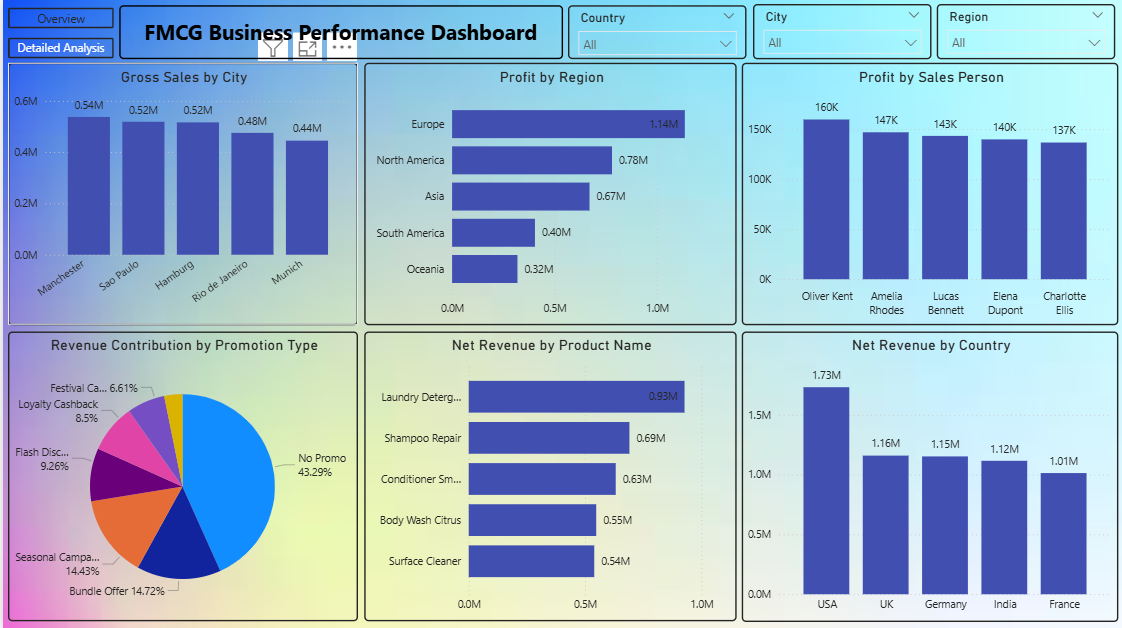

Layout of this report page (visuals, bound fields, positions):
{"tool":"powerbi","page":{"name":"Detailed Analysis","canvas":[1280,720],"ordinal":1},"visuals":[{"type":"pieChart","title":"Revenue Contribution by Promotion Type","fields":{"Category":["fmcg_sales_marketing_profitability_2023_2025.Promotion_Type"],"Y":["Sum(fmcg_sales_marketing_profitability_2023_2025.Profit_USD)"]},"box":[5.7,380,400,331.4],"z":0},{"type":"clusteredBarChart","title":"Profit by Region","fields":{"Category":["fmcg_sales_marketing_profitability_2023_2025.Region"],"Y":["Sum(fmcg_sales_marketing_profitability_2023_2025.Profit_USD)"]},"box":[412.9,72.9,425.7,300],"z":1000},{"type":"columnChart","title":" Profit by Sales Person","fields":{"Category":["fmcg_sales_marketing_profitability_2023_2025.Sales_Person"],"Y":["Sum(fmcg_sales_marketing_profitability_2023_2025.Profit_USD)"]},"box":[843.8,73.1,430.8,300],"z":2000},{"type":"columnChart","title":" Net Revenue by Country","fields":{"Category":["fmcg_sales_marketing_profitability_2023_2025.Country"],"Y":["Sum(fmcg_sales_marketing_profitability_2023_2025.Net_Revenue_USD)"]},"box":[843.8,380,430.6,331.9],"z":3000},{"type":"columnChart","title":"Gross Sales by City","fields":{"Category":["fmcg_sales_marketing_profitability_2023_2025.City"],"Y":["Sum(fmcg_sales_marketing_profitability_2023_2025.Gross_Sales_USD)"]},"box":[6.2,73.1,400,300],"z":4000},{"type":"clusteredBarChart","title":"Net Revenue by Product Name","fields":{"Category":["fmcg_sales_marketing_profitability_2023_2025.Product_Name"],"Y":["Sum(fmcg_sales_marketing_profitability_2023_2025.Net_Revenue_USD)"]},"box":[412.9,380,425.7,331.4],"z":5000},{"type":"textbox","box":[132.9,7.1,507.1,61.4],"z":6000},{"type":"slicer","fields":{"Values":["fmcg_sales_marketing_profitability_2023_2025.Country"]},"box":[645.7,7.1,204.3,61.4],"z":7000},{"type":"slicer","fields":{"Values":["fmcg_sales_marketing_profitability_2023_2025.City"]},"box":[857.1,5.7,204.3,62.9],"z":8000},{"type":"slicer","fields":{"Values":["fmcg_sales_marketing_profitability_2023_2025.Region"]},"box":[1067.1,5.7,204.3,62.9],"z":9000},{"type":"pageNavigator","box":[5.7,5.7,121.4,67.1],"z":10000}]}

Visuals, with their boxes in screenshot pixels (x1, y1, x2, y2), scaled from the page's 1280x720 canvas onto the 1122x628 screenshot:
"Revenue Contribution by Promotion Type" pieChart: (x1=5, y1=331, x2=356, y2=620)
"Profit by Region" clusteredBarChart: (x1=362, y1=64, x2=735, y2=325)
" Profit by Sales Person" columnChart: (x1=740, y1=64, x2=1117, y2=325)
" Net Revenue by Country" columnChart: (x1=740, y1=331, x2=1117, y2=621)
"Gross Sales by City" columnChart: (x1=5, y1=64, x2=356, y2=325)
"Net Revenue by Product Name" clusteredBarChart: (x1=362, y1=331, x2=735, y2=620)
textbox: (x1=116, y1=6, x2=561, y2=60)
slicer - fmcg_sales_marketing_profitability_2023_2025.Country: (x1=566, y1=6, x2=745, y2=60)
slicer - fmcg_sales_marketing_profitability_2023_2025.City: (x1=751, y1=5, x2=930, y2=60)
slicer - fmcg_sales_marketing_profitability_2023_2025.Region: (x1=935, y1=5, x2=1114, y2=60)
pageNavigator: (x1=5, y1=5, x2=111, y2=63)
